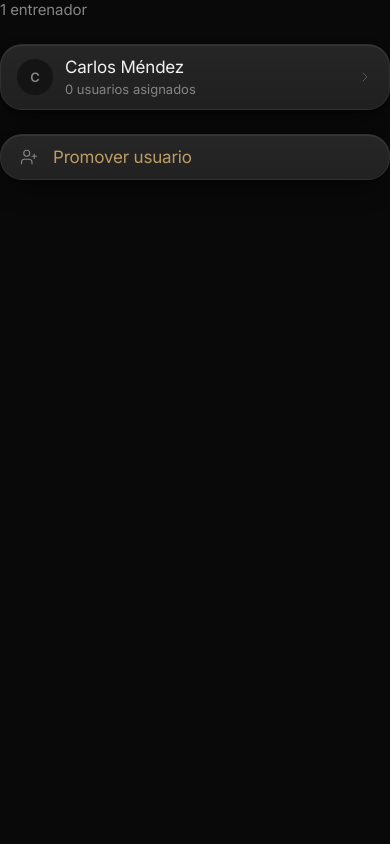
Test: TrainerManagement › keeps the role when the alert is cancelled
What coordinates should you click on to do the following:
click the button "C Carlos Méndez 0 usuarios asignados"
I would click on:
 (35, 77)
Its box is [1,45,389,109].
(page scrolled)
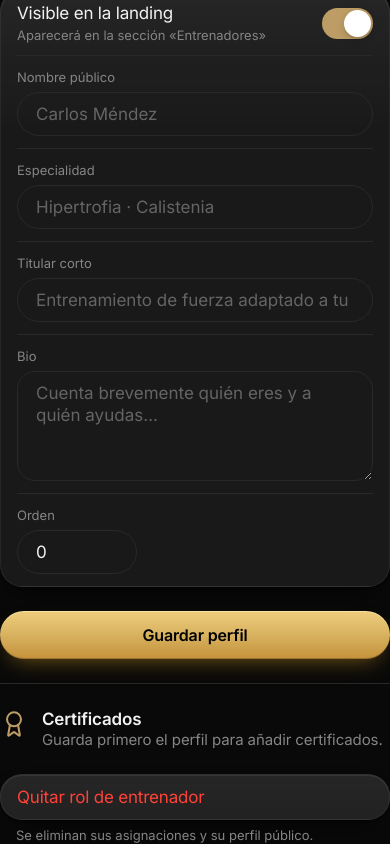
What coordinates should you click on to do the following:
click the button "Quitar rol de entrenador"
I would click on:
 (195, 797)
Its box is [1,775,389,819].
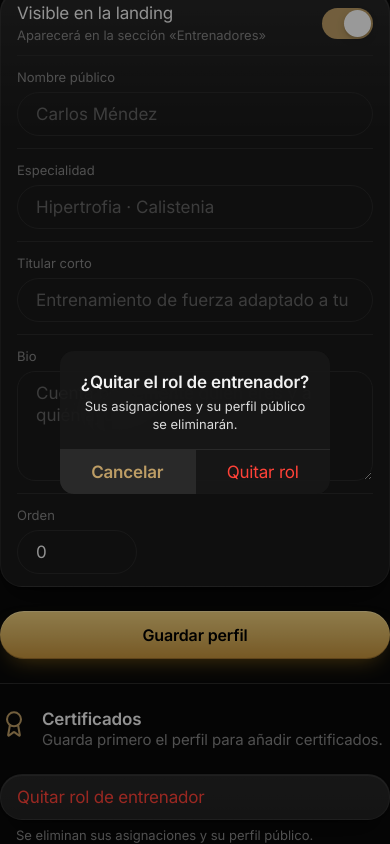
What coordinates should you click on to do the following:
click the button "Cancelar"
I would click on:
 (127, 472)
Its box is [60,450,194,494].
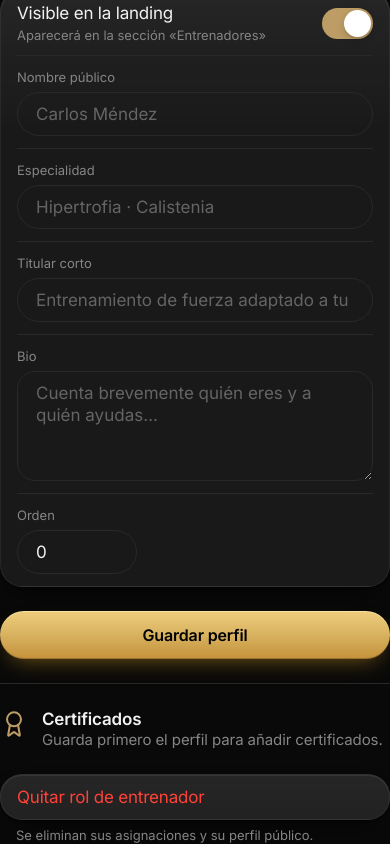
Result: the heading "¿Quitar el rol de entrenador?" is gone
